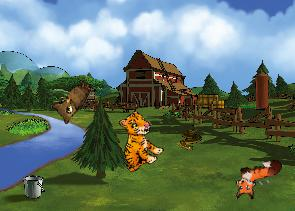fox: (229, 157, 287, 202)
owl: (47, 72, 93, 126)
tiger: (102, 107, 170, 177)
